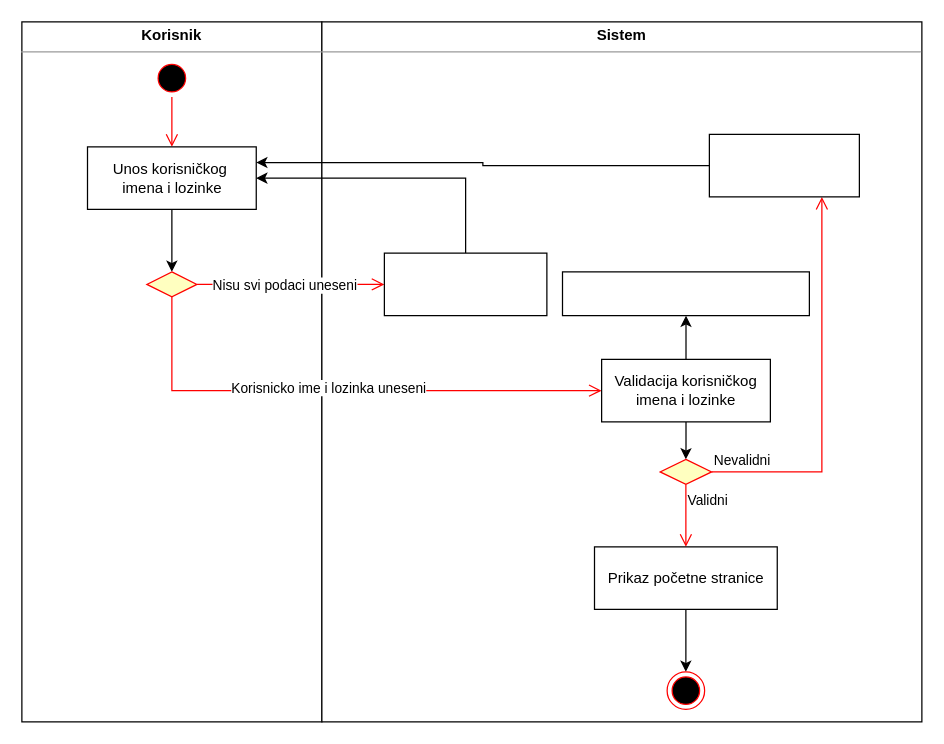
Image size: 944x744. Some labels were removed from this diagram. The centre of each missing label's shape, as x and y in pixels:
Ispis poruke korisniku: (465,284)
Ispis poruke o nevalidnim podacima: (783,165)
«datastore» Baza podataka svih korisnika: (685,293)
